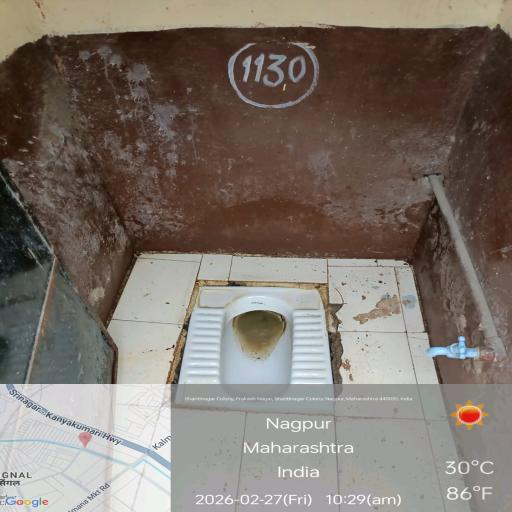dirty_floor: (101, 282, 470, 511)
dirty_indian: (186, 272, 338, 416)
partial_dirty_floor: (24, 28, 484, 264)
